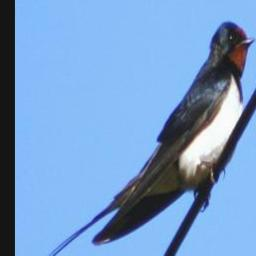Swallow: (28, 20, 256, 256)
